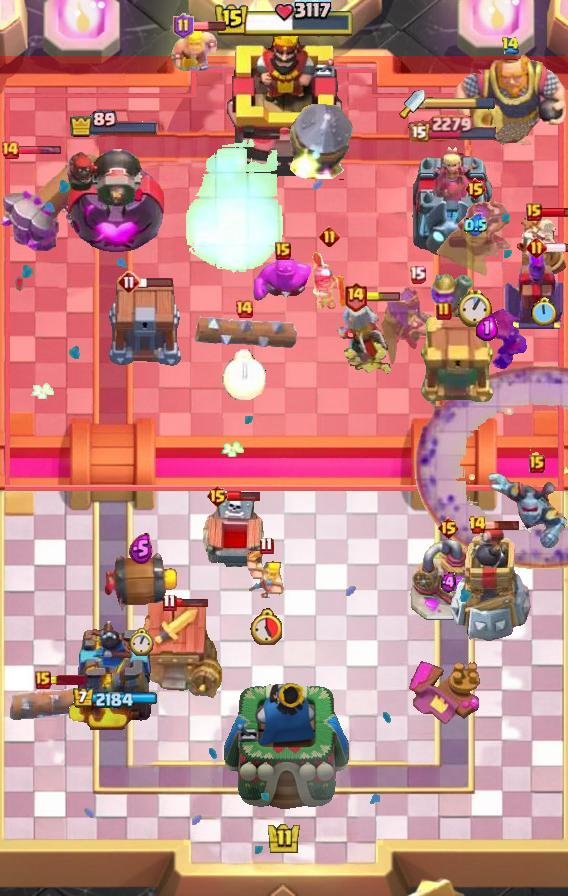archer: (170, 30, 218, 74), (247, 551, 285, 601)
bar: (409, 142, 497, 256)
barbarian-hut: (432, 193, 518, 279), (377, 283, 457, 371)
bomb: (416, 316, 494, 404), (106, 281, 184, 367)
bomb-tower: (429, 269, 475, 327)
clock: (213, 0, 355, 40)
electro-spirit: (129, 532, 153, 563), (476, 315, 498, 341), (464, 214, 487, 238), (440, 572, 455, 593)
elixir: (222, 349, 266, 400), (458, 289, 492, 327), (250, 608, 282, 645), (531, 296, 558, 327), (130, 628, 154, 657)
elixir-collector: (512, 215, 568, 289)
elixir-golem-mid: (200, 492, 270, 578)
elixir-golem-small: (484, 470, 568, 548)
emote: (10, 145, 62, 156), (484, 519, 521, 531), (191, 20, 227, 32), (138, 276, 174, 288), (174, 596, 209, 608), (227, 490, 260, 502), (365, 292, 401, 302), (49, 675, 85, 685), (540, 206, 568, 218), (544, 242, 567, 254)
furnace: (0, 149, 106, 255)
giant-skeleton: (452, 49, 568, 149)
ice-spirit-evolution-symbol: (504, 244, 568, 332)
king-tower: (219, 678, 349, 826), (224, 29, 344, 181)
king-tower-bar: (425, 97, 495, 111)
mega-knight: (183, 138, 286, 275)
minion: (190, 316, 297, 352), (7, 684, 109, 720)
pekka: (409, 540, 487, 622)
poison: (329, 302, 411, 376)
princess: (310, 252, 348, 314)
queen-tower: (66, 617, 162, 731)
rocket: (416, 365, 568, 569)
selected: (68, 110, 159, 138), (409, 114, 500, 142), (71, 688, 156, 710)
sparky: (136, 602, 222, 700)
tesla-evolution: (446, 307, 530, 371)
text: (344, 280, 369, 311), (117, 270, 141, 294), (464, 177, 487, 201), (207, 484, 230, 508), (436, 516, 459, 540), (174, 13, 195, 39), (320, 225, 341, 247), (525, 238, 547, 259), (0, 140, 20, 160), (234, 299, 254, 319), (468, 515, 487, 535), (500, 36, 519, 55), (409, 265, 426, 284), (436, 301, 452, 321), (526, 203, 542, 221), (275, 242, 291, 260), (529, 455, 545, 473), (35, 671, 51, 689), (163, 593, 178, 611), (259, 537, 273, 555)
the-log: (101, 551, 181, 611)
tornado: (252, 257, 314, 303)
tower-bar: (62, 138, 166, 256)
x-bow: (290, 101, 353, 179)
zappy: (447, 521, 532, 645)
